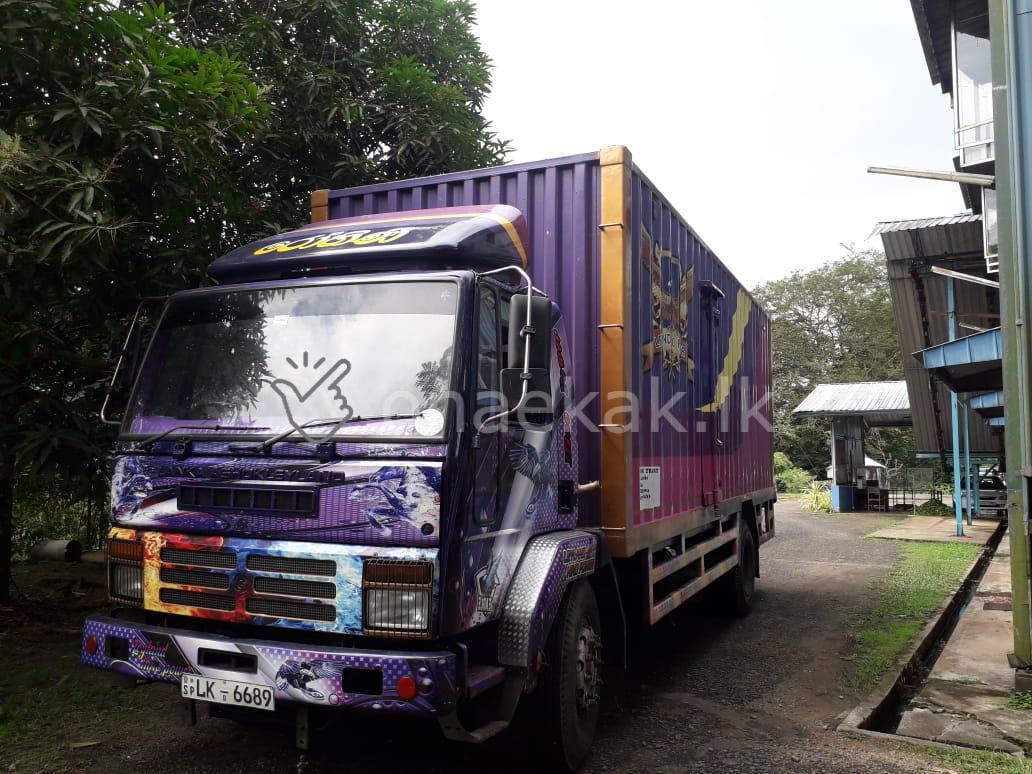truck: (80, 143, 774, 774)
